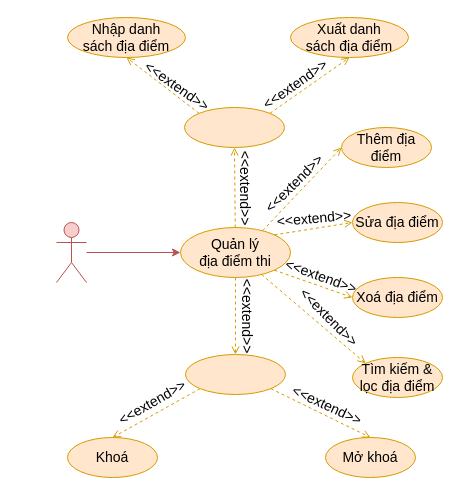
Image size: 460x495. Some labels were removed from this diagram. Each missing label, with the centre of its shape:
"Nhập/Xuất" belongs at (x=234, y=127).
"quản lý khoá địa điểm" belongs at (x=235, y=374).
"Quản trị hệ thống" belongs at (x=71, y=252).
